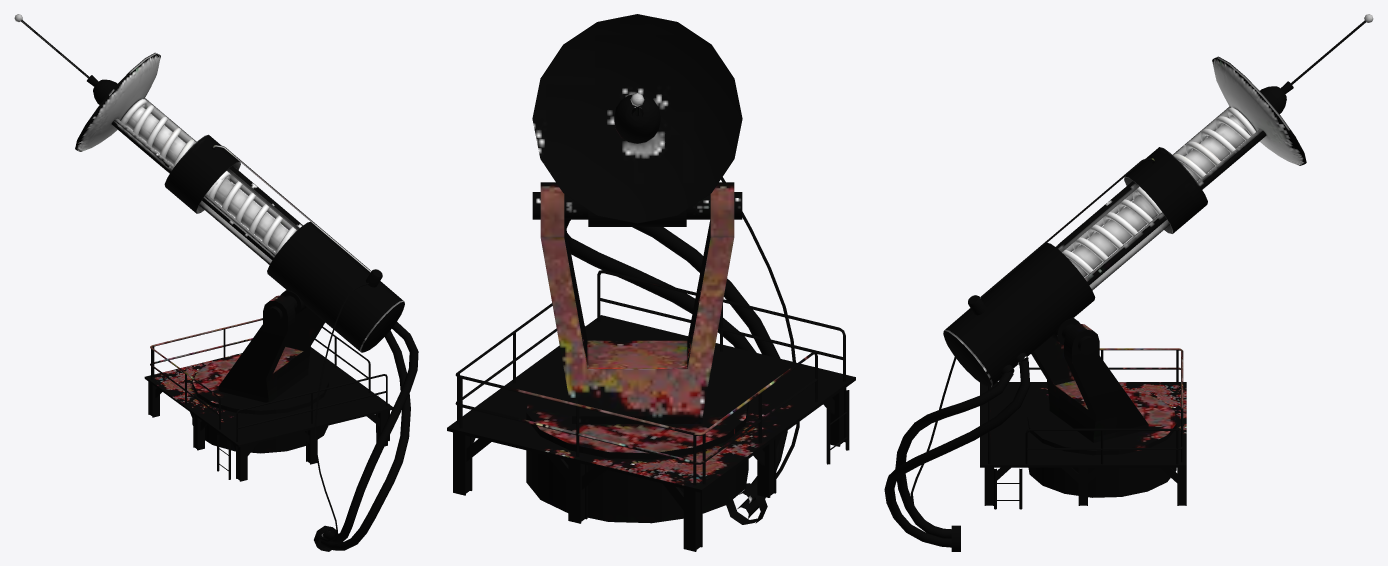
3 views of the same model, side by side, from view 1: azimuth 30°, elevation 25°; view 2: azimuth 150°, elevation 25°; view 3: azimuth 270°, elevation 25° (orthographic). The views are drawn at different scales.
Visible parts, largest first — view 1: body0_model0_lod0_mesh0; view 2: body0_model0_lod0_mesh0; view 3: body0_model0_lod0_mesh0.
Part boxes in pixels (<box>): body0_model0_lod0_mesh0: <box>14,14,418,551</box>; body0_model0_lod0_mesh0: <box>447,14,855,551</box>; body0_model0_lod0_mesh0: <box>884,14,1373,551</box>.
Bounding box in the file's own units: 238 × 443 × 416.
1 material, 1 textured.
